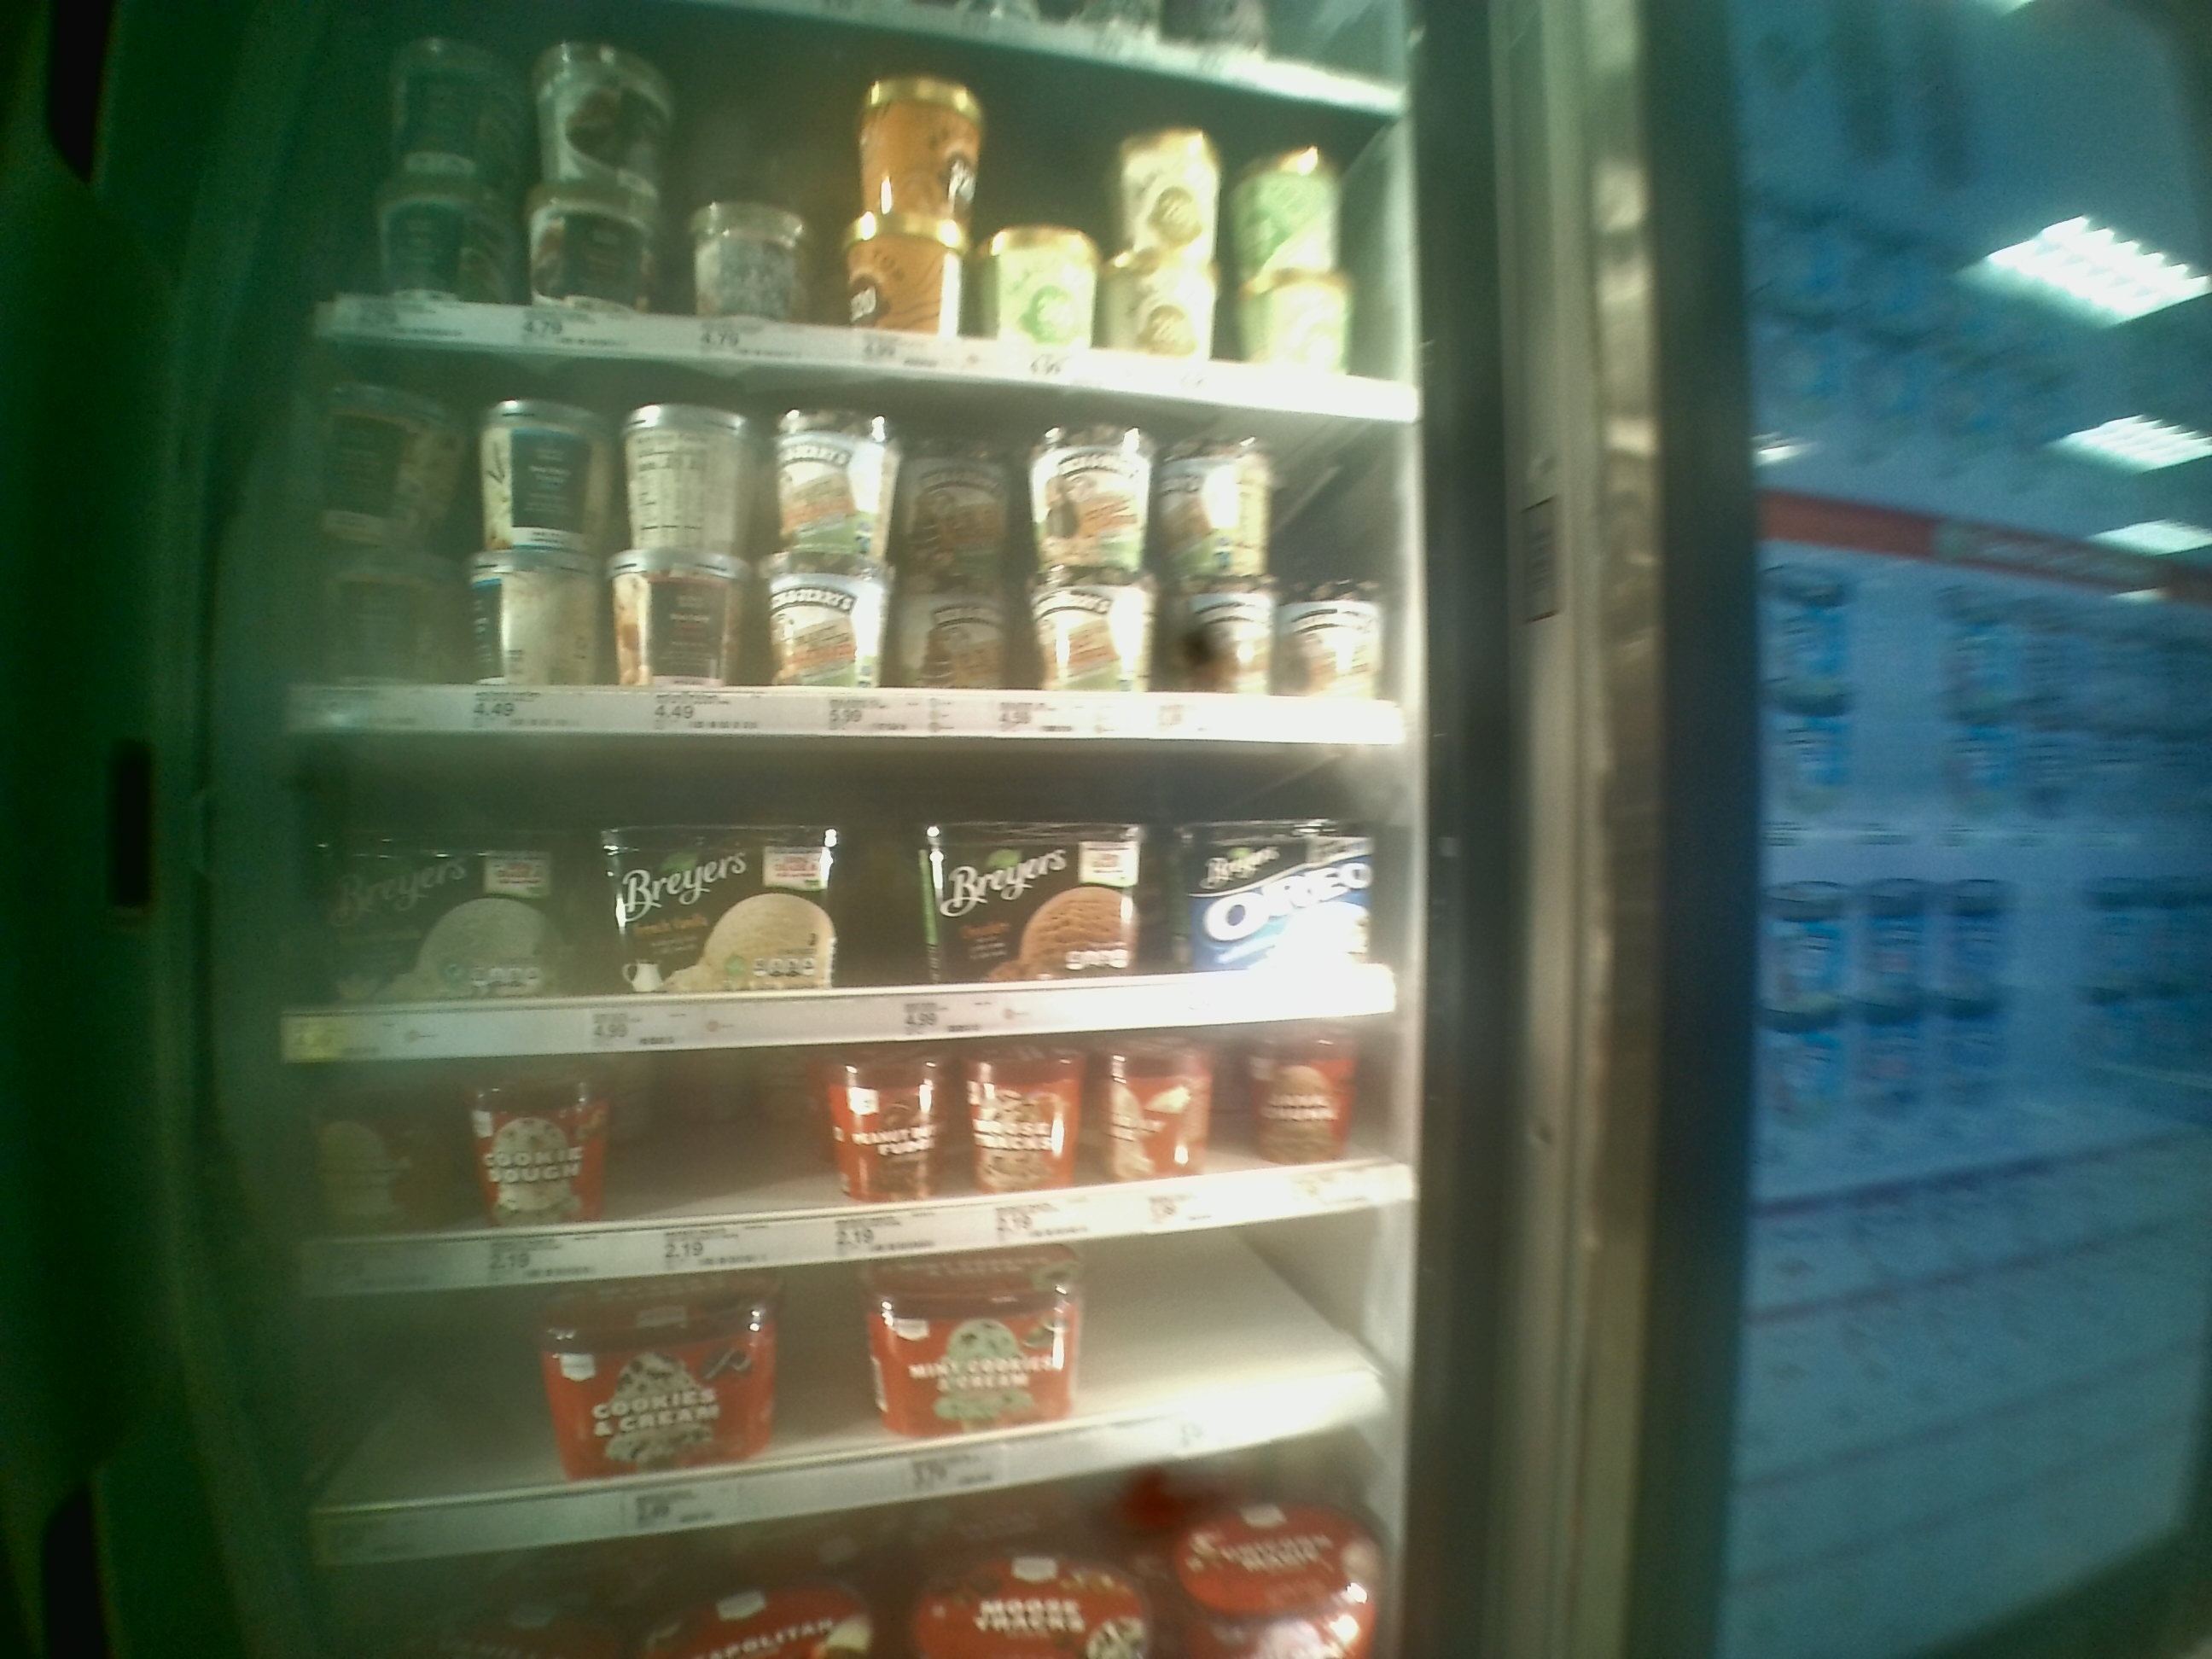ice-cream-shelf: (286, 732, 1411, 1047)
